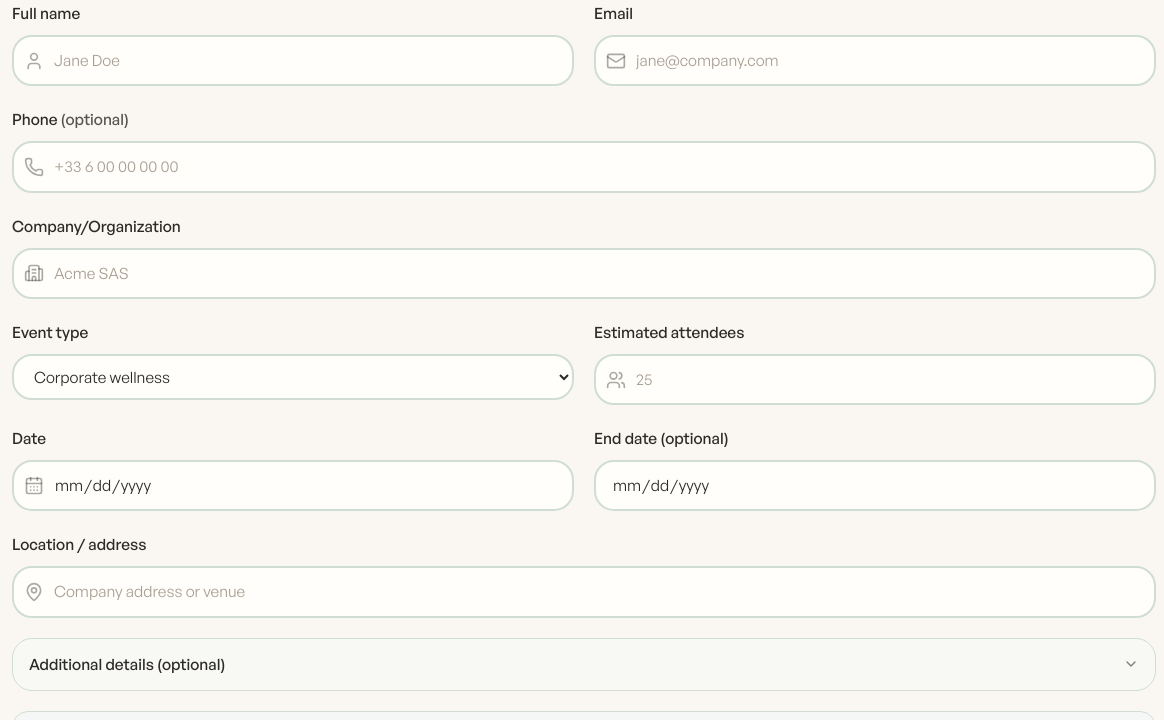
Test: CorporateInquiryForm › toggles the additional details section
The width and height of the screenshot is (1164, 720).
// Click toggle button
Click the button "Additional details (optional)": (127, 664) x1=13 y1=639 x2=1155 y2=690
(page scrolled)
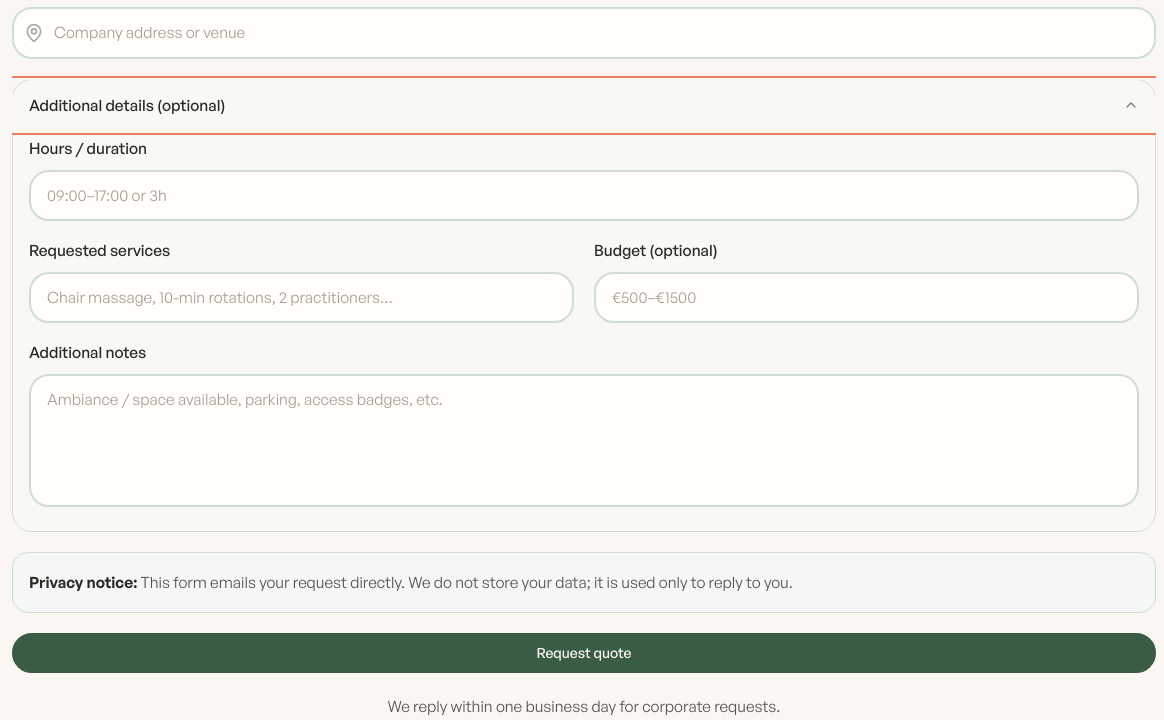
Now the field labelled "Hours / duration" is shown, box x1=29 y1=170 x2=1139 y2=221
Now the text box labelled "Additional notes" is shown, box x1=29 y1=374 x2=1139 y2=507
